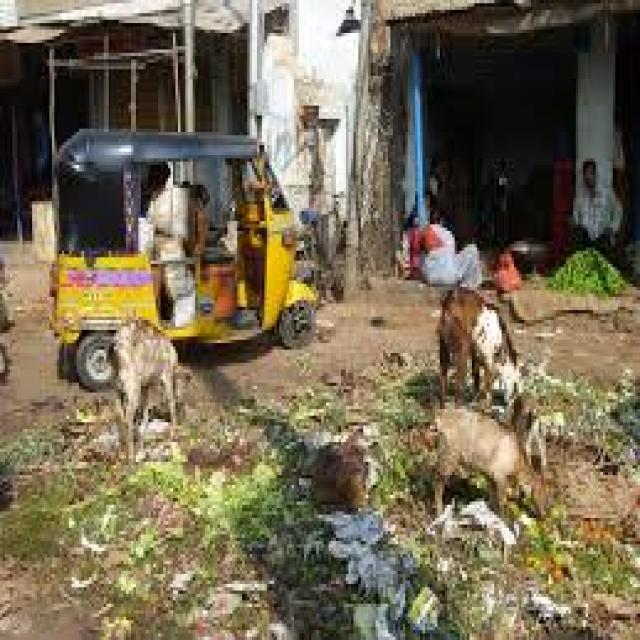Organik: (1, 462, 298, 640), (300, 521, 640, 640), (556, 243, 628, 315)
